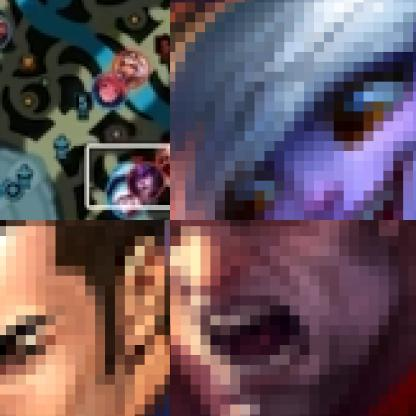Darius: (170, 220, 415, 415)
Gragas: (158, 139, 169, 179)
Janna: (109, 184, 148, 219)
Qiyana: (113, 47, 151, 87)
Syndra: (129, 163, 166, 200)
Tristana: (170, 0, 415, 219)
Udyr: (0, 9, 12, 53)
Xin Zhao: (0, 220, 169, 415)
Zoe: (92, 74, 126, 108)
